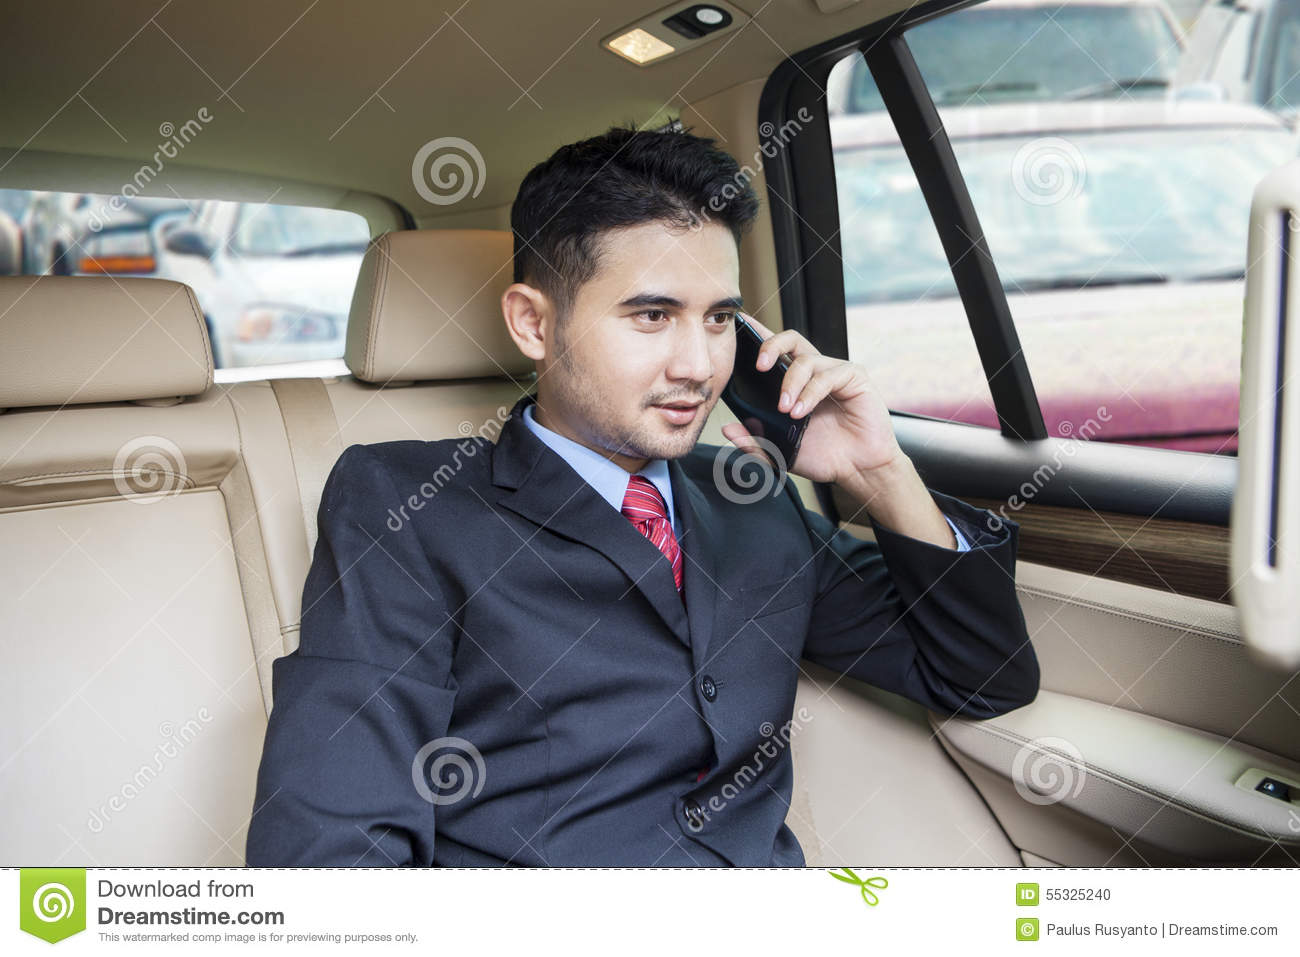phone: (719, 320, 818, 478)
talk: (602, 283, 900, 499)
